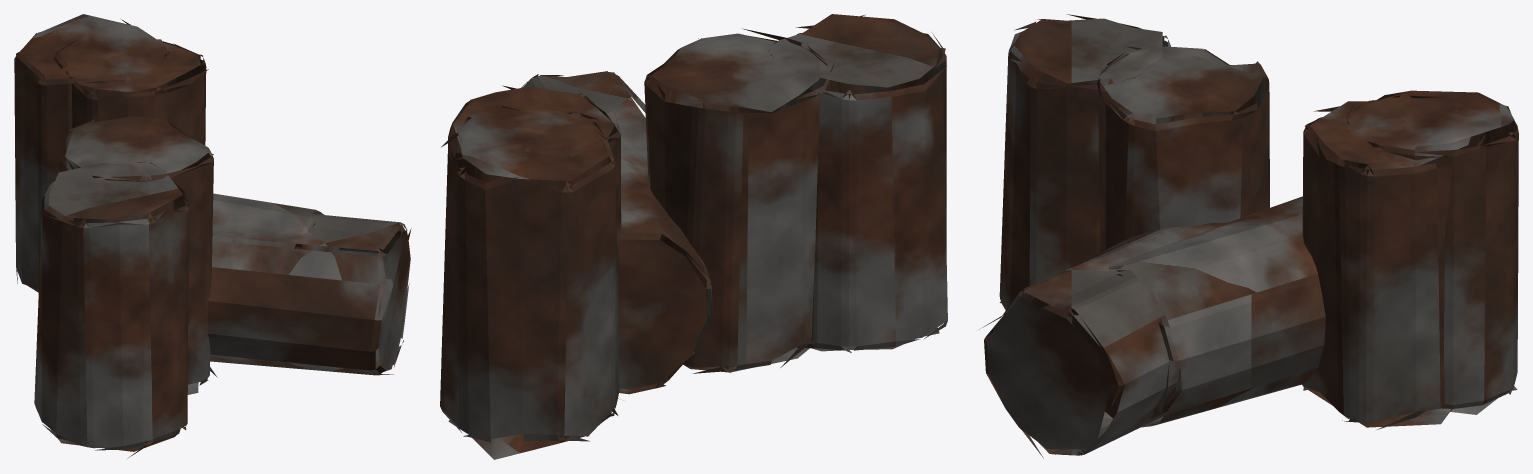
File: D08_rusty_cans_v3.glb
The picture shows the model from 3 angles, left to right: view 1: azimuth 30°, elevation 25°; view 2: azimuth 150°, elevation 25°; view 3: azimuth 270°, elevation 25°; orthographic projection. The views are drawn at different scales.
Visible parts, largest first — view 1: D08_rusty_cans_v3; view 2: D08_rusty_cans_v3; view 3: D08_rusty_cans_v3.
Boxes of the visible parts, left/top/right/bottom form: D08_rusty_cans_v3: left=14, top=14, right=411, bottom=458; D08_rusty_cans_v3: left=440, top=14, right=947, bottom=459; D08_rusty_cans_v3: left=979, top=14, right=1518, bottom=458.
Size of the model in its own units: 0.1856 by 0.1165 by 0.2029.
1 material, 1 textured.
